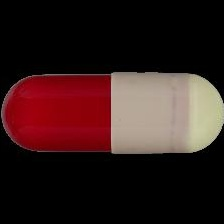53808-0374: (0, 0, 224, 224)
